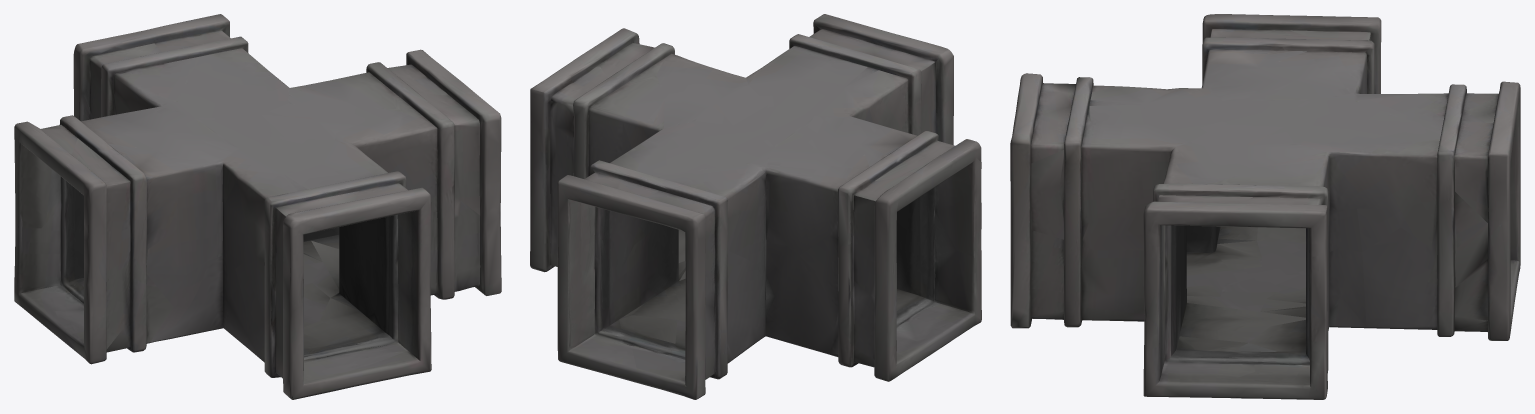
The model's file is decor_duct_cross_idle.glb.
The picture shows the model from 3 angles, left to right: view 1: azimuth 30°, elevation 25°; view 2: azimuth 150°, elevation 25°; view 3: azimuth 270°, elevation 25°; orthographic projection. The views are drawn at different scales.
Parts seen in each view (by area): view 1: tripo_node_7c2b1268-abcc-4066-a7bb-358d368e9994; view 2: tripo_node_7c2b1268-abcc-4066-a7bb-358d368e9994; view 3: tripo_node_7c2b1268-abcc-4066-a7bb-358d368e9994.
Part boxes in pixels (x1=…): tripo_node_7c2b1268-abcc-4066-a7bb-358d368e9994: x1=14, y1=14, x2=501, y2=399; tripo_node_7c2b1268-abcc-4066-a7bb-358d368e9994: x1=530, y1=14, x2=981, y2=399; tripo_node_7c2b1268-abcc-4066-a7bb-358d368e9994: x1=1010, y1=14, x2=1520, y2=399.
Size of the model in its own units: 1.5 by 0.6581 by 1.61.
1 material, 1 textured.
